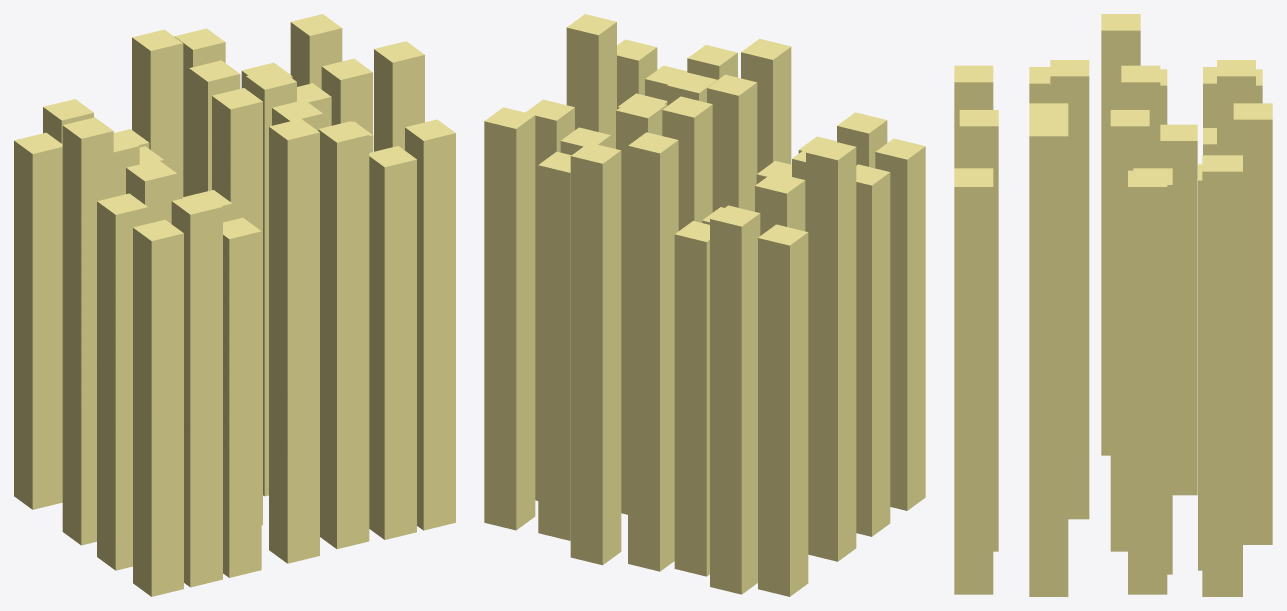
File: wheat.glb
3 renders of one model, left to right at view 1: azimuth 30°, elevation 25°; view 2: azimuth 150°, elevation 25°; view 3: azimuth 270°, elevation 25°, orthographic. The views are drawn at different scales.
Parts seen in each view (by area): view 1: Cube.001, Cube.002, Cube.007, Cube.003, Cube.028, Cube.004, Cube.021, Cube.005, Cube.006, Cube.014, Cube.008, Cube.022 (+11 smaller); view 2: Cube.025, Cube.023, Cube.022, Cube.021, Cube.028, Cube.026, Cube.007, Cube.014, Cube.024, Cube.027, Cube.008, Cube.011 (+11 smaller); view 3: Cube.011, Cube.025, Cube.004, Cube.018, Cube.023, Cube.008, Cube.020, Cube.016, Cube.021, Cube.002, Cube.022, Cube.017 (+7 smaller).
Part boxes in pixels (x1,y1,x2,y2): Cube.001: [269, 119, 319, 563]; Cube.002: [318, 121, 369, 549]; Cube.007: [133, 219, 183, 596]; Cube.003: [369, 146, 416, 539]; Cube.028: [14, 132, 62, 509]; Cube.004: [405, 119, 455, 530]; Cube.021: [62, 117, 113, 545]; Cube.005: [171, 193, 222, 587]; Cube.006: [223, 217, 261, 577]; Cube.014: [97, 193, 148, 570]; Cube.008: [212, 88, 262, 525]; Cube.022: [132, 29, 183, 199]; Cube.025: [484, 107, 535, 530]; Cube.023: [570, 142, 621, 565]; Cube.022: [628, 132, 678, 571]; Cube.021: [806, 139, 856, 561]; Cube.028: [758, 224, 808, 596]; Cube.026: [710, 205, 760, 594]; Cube.007: [875, 138, 925, 510]; Cube.014: [856, 164, 890, 536]; Cube.024: [538, 151, 571, 540]; Cube.027: [674, 221, 709, 576]; Cube.008: [707, 74, 757, 212]; Cube.011: [566, 14, 616, 148]; Cube.011: [1029, 119, 1068, 596]; Cube.025: [1202, 155, 1242, 596]; Cube.004: [954, 170, 993, 594]; Cube.018: [1128, 170, 1167, 594]; Cube.023: [1233, 103, 1272, 544]; Cube.008: [1050, 60, 1089, 519]; Cube.020: [1160, 124, 1197, 495]; Cube.016: [1110, 110, 1149, 551]; Cube.021: [1101, 14, 1140, 455]; Cube.002: [959, 110, 998, 551]; Cube.022: [1217, 60, 1255, 155]; Cube.017: [1133, 168, 1172, 574].
Bounding box in the file's own units: 0.9549 × 1.3 × 0.8139.
